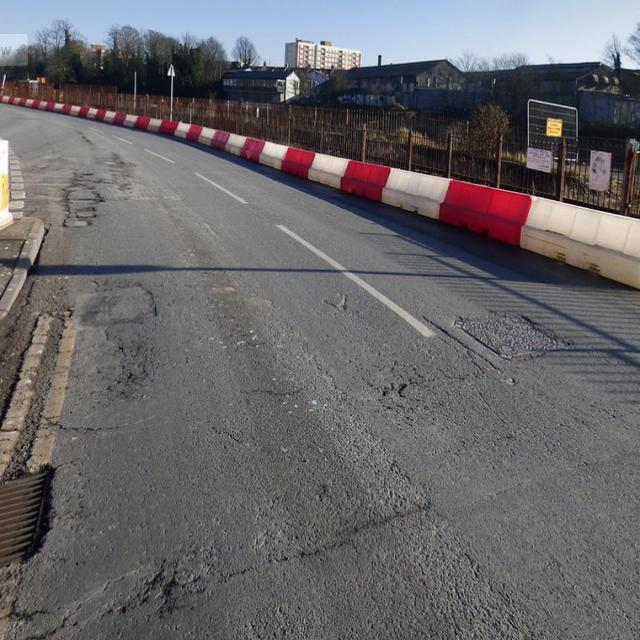Pothole: (2, 144, 102, 602)
